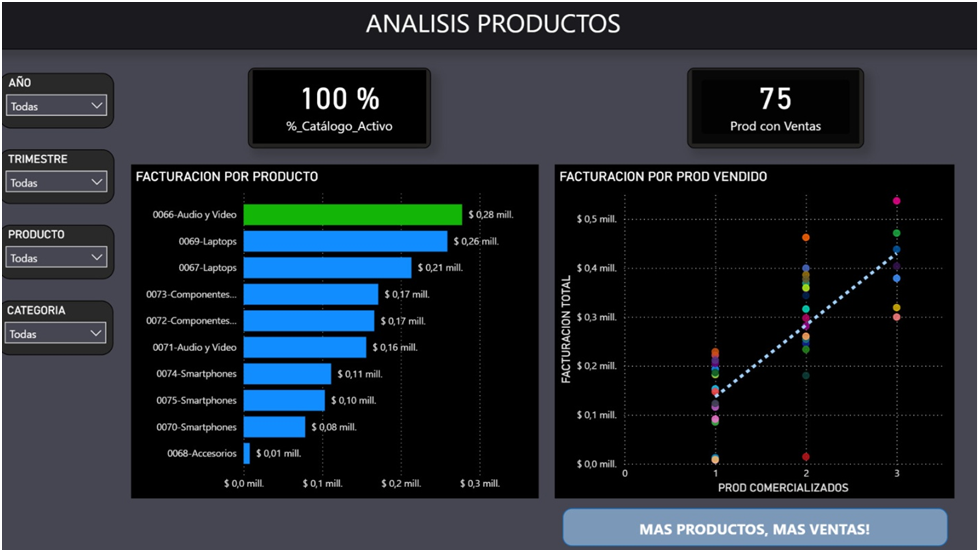

This screenshot's page, from the dashboard's own definition file:
{"tool":"powerbi","page":{"name":"PRODUCTOS","canvas":[1280,720],"ordinal":2},"visuals":[{"type":"shape","box":[727.6,658.4,486,48],"z":0},{"type":"textbox","title":"Última actualización:  09/07/2026","box":[0,0,1280,78.9],"z":1000},{"type":"slicer","fields":{"Values":["PRODUCTOS.ProductoID"]},"box":[16.2,300.5,145.8,69.5],"z":2000},{"type":"slicer","fields":{"Values":["CALENDARIO.AÑO"]},"box":[16.5,108.8,145,70],"z":3000},{"type":"slicer","fields":{"Values":["CALENDARIO.Trimestre"]},"box":[16.2,204.9,145.8,69.5],"z":4000},{"type":"slicer","fields":{"Values":["PRODUCTOS.Categoria"]},"box":[15,396.1,145.8,69.5],"z":5000},{"type":"barChart","title":"FACTURACION POR PRODUCTO","fields":{"Category":["PRODUCTOS.PRODUCTO"],"Y":["Sum(TRANSACCIONES.total_transacciones)"]},"box":[183.2,224.5,514.4,422.2],"z":6000},{"type":"cardVisual","fields":{"Data":["TRANSACCIONES.PROD_CON_VENTAS"]},"box":[884.4,101.7,223.3,102.2],"z":7000},{"type":"cardVisual","fields":{"Data":["PRODUCTOS.%_Catálogo_Activo"]},"box":[330.6,101.7,231.1,102.2],"z":8000},{"type":"scatterChart","title":"FACTURACION POR PROD VENDIDO","fields":{"X":["PRODUCTOS.PROD COMERCIALIZADOS"],"Y":["TRANSACCIONES.FACTURACION TOTAL"],"Series":["PRODUCTOS.ProveedorID"]},"box":[717.7,224.5,504.4,422.2],"z":9000},{"type":"textbox","box":[770,666.8,400,38.9],"z":10000}]}

Visuals, with their boxes in screenshot pixels (x1, y1, x2, y2), scaled from the page's 1280x720 canvas onto the 979x552 screenshot:
shape: {"x1": 557, "y1": 505, "x2": 928, "y2": 542}
"Última actualización:  09/07/2026" textbox: {"x1": 0, "y1": 0, "x2": 978, "y2": 60}
slicer - PRODUCTOS.ProductoID: {"x1": 12, "y1": 230, "x2": 124, "y2": 284}
slicer - CALENDARIO.AÑO: {"x1": 13, "y1": 83, "x2": 124, "y2": 137}
slicer - CALENDARIO.Trimestre: {"x1": 12, "y1": 157, "x2": 124, "y2": 210}
slicer - PRODUCTOS.Categoria: {"x1": 11, "y1": 304, "x2": 123, "y2": 357}
"FACTURACION POR PRODUCTO" barChart: {"x1": 140, "y1": 172, "x2": 534, "y2": 496}
cardVisual - TRANSACCIONES.PROD_CON_VENTAS: {"x1": 676, "y1": 78, "x2": 847, "y2": 156}
cardVisual - PRODUCTOS.%_Catálogo_Activo: {"x1": 253, "y1": 78, "x2": 430, "y2": 156}
"FACTURACION POR PROD VENDIDO" scatterChart: {"x1": 549, "y1": 172, "x2": 935, "y2": 496}
textbox: {"x1": 589, "y1": 511, "x2": 895, "y2": 541}
